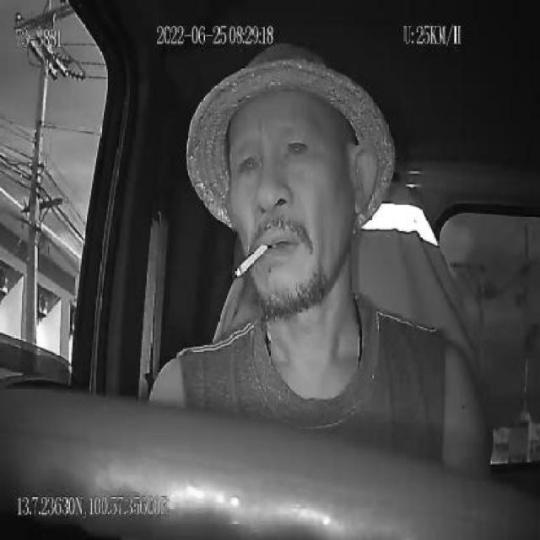smoking: (235, 239, 271, 280)
